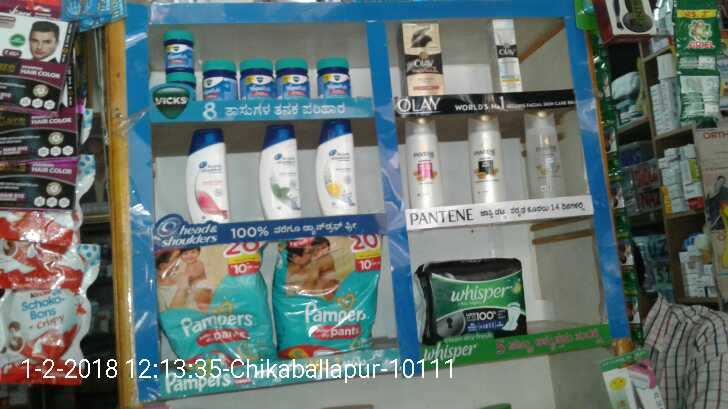beauty: (183, 123, 234, 222), (312, 116, 360, 214), (256, 121, 299, 216), (519, 112, 564, 197), (397, 20, 448, 92), (466, 116, 504, 201), (487, 16, 526, 94)
pharmacy: (153, 249, 278, 366), (275, 235, 380, 350), (419, 257, 528, 339), (316, 51, 353, 98), (270, 56, 310, 95), (200, 58, 236, 101), (164, 26, 196, 73), (242, 58, 274, 103)
